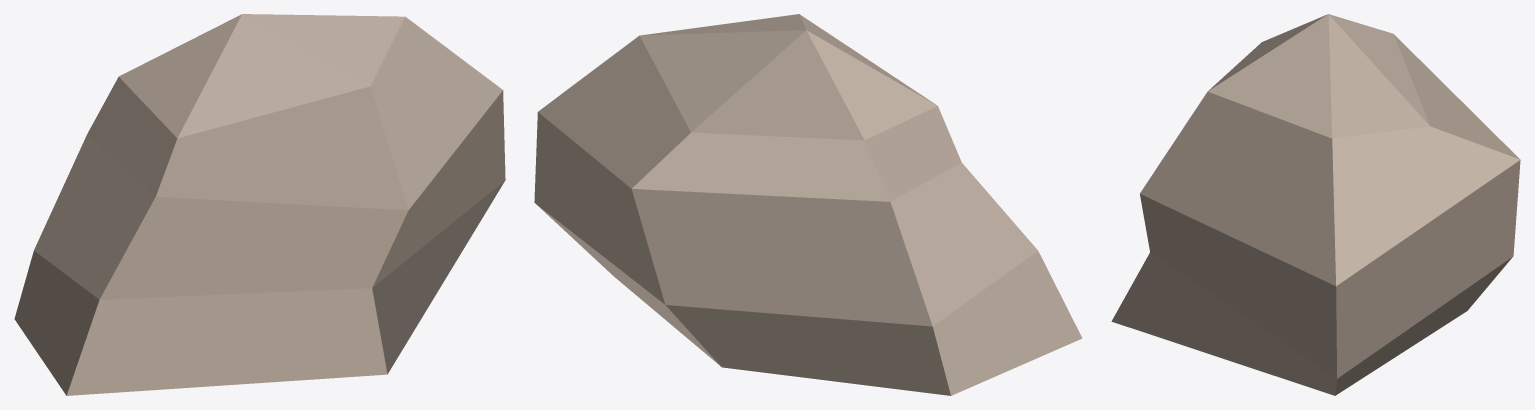
File: TalusShard.fbx
3 renders of one model, left to right at view 1: azimuth 30°, elevation 25°; view 2: azimuth 150°, elevation 25°; view 3: azimuth 270°, elevation 25°, orthographic.
Visible parts, largest first — view 1: TalusShard; view 2: TalusShard; view 3: TalusShard.
Boxes of the visible parts, x1,y1,x2,y2 form: TalusShard: (14, 14, 505, 395); TalusShard: (534, 14, 1082, 395); TalusShard: (1111, 14, 1520, 395).
Bounding box in the file's own units: 83.35 × 46.8 × 59.9.
